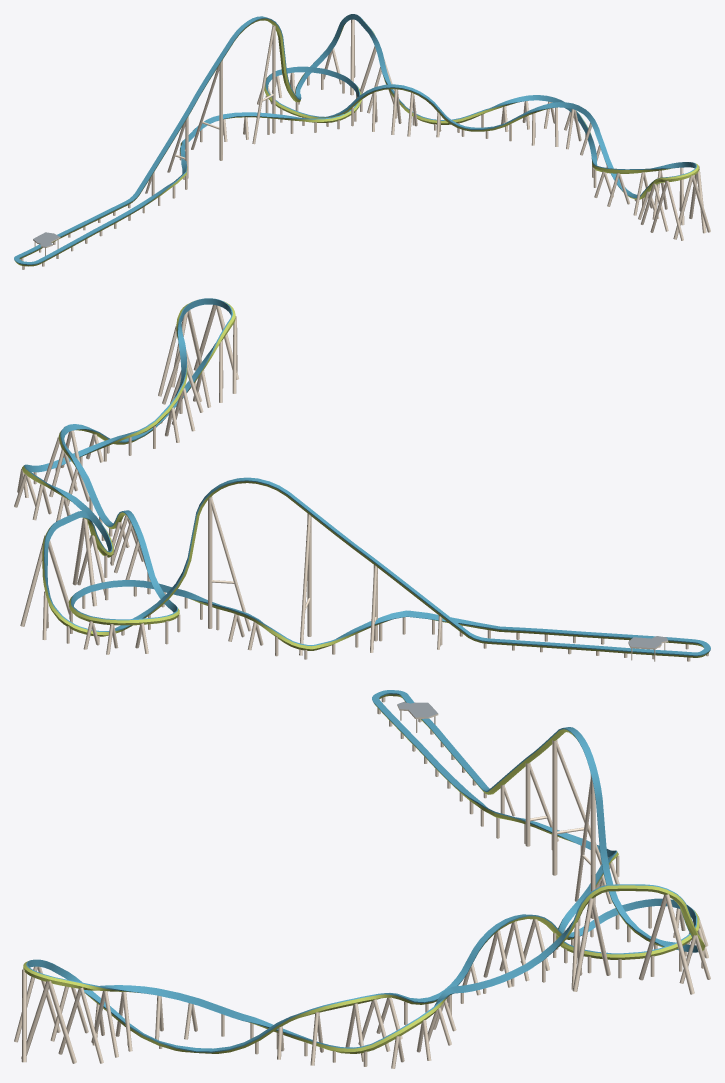
3 renders of one model, top to bottom at view 1: azimuth 30°, elevation 25°; view 2: azimuth 150°, elevation 25°; view 3: azimuth 270°, elevation 25°, orthographic. The views are drawn at different scales.
Visible parts, largest first — view 1: fury-325-carowinds; view 2: fury-325-carowinds; view 3: fury-325-carowinds.
Boxes of the visible parts, x1,y1,x2,y2 form: fury-325-carowinds: [14, 14, 710, 269]; fury-325-carowinds: [14, 298, 710, 661]; fury-325-carowinds: [14, 690, 710, 1068].
Size of the model in its own units: 476 by 100 by 379.
